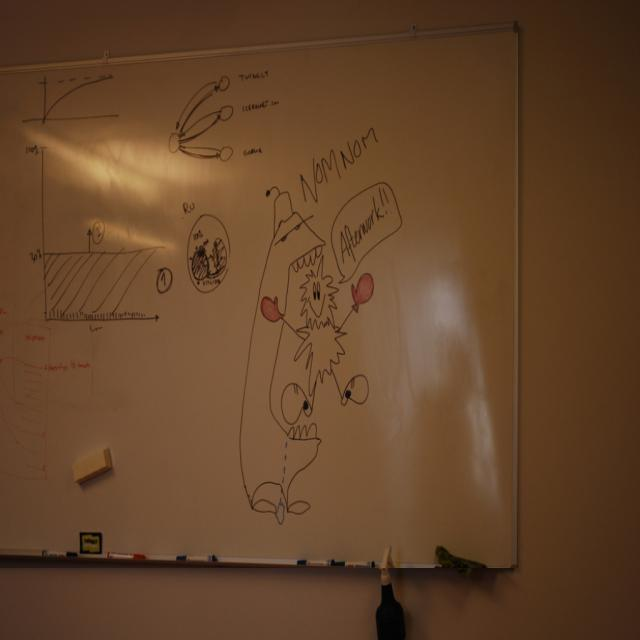Whiteboard: (0, 20, 521, 570)
